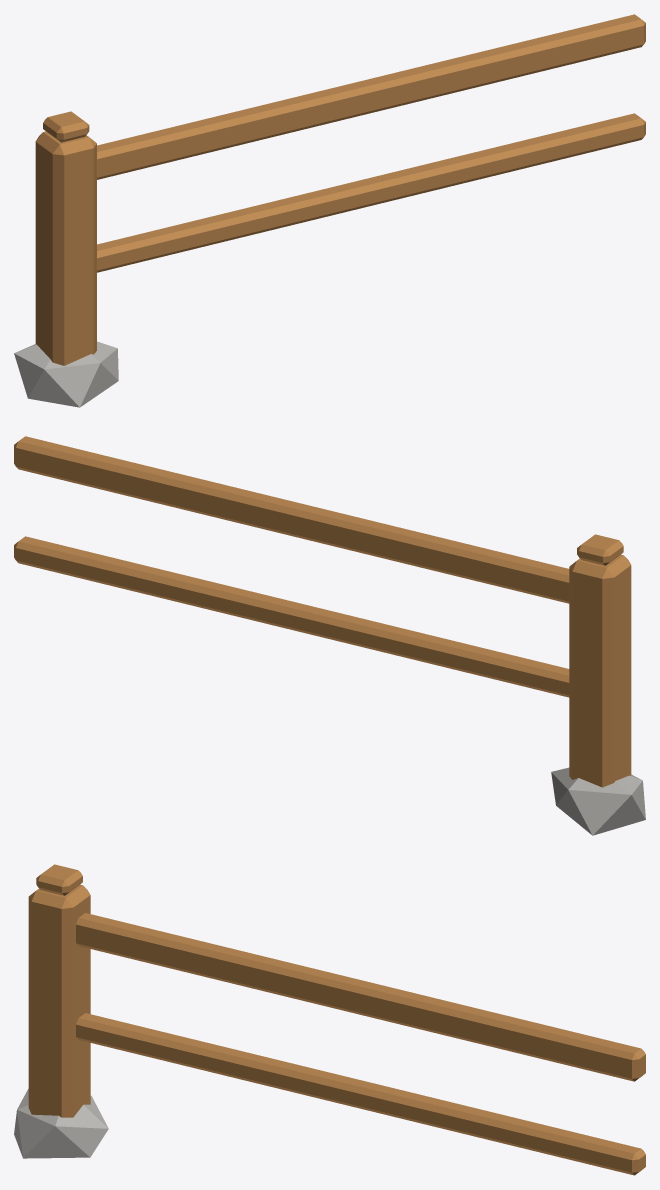
Rendered from rail_segment.glb.
The picture shows the model from 3 angles, top to bottom: view 1: azimuth 30°, elevation 25°; view 2: azimuth 150°, elevation 25°; view 3: azimuth 330°, elevation 25°; orthographic projection.
Parts seen in each view (by area): view 1: rail_segment; view 2: rail_segment; view 3: rail_segment.
Part boxes in pixels (<box>): rail_segment: <box>14,14,645,407</box>; rail_segment: <box>14,436,645,835</box>; rail_segment: <box>14,864,645,1175</box>.
Size of the model in its own units: 2.09 by 0.9117 by 0.2907.
